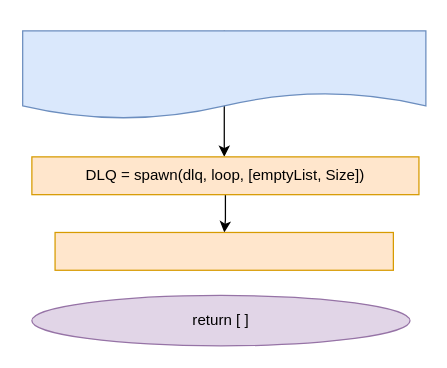
The diagram is 447 pixels wide and 368 high, and some of its shapes have lost their labels. The shapes that lost their labels are listed below. From the top down, each one's box as (x1, y1, x2, y2) in pixels, then its label:
(21, 30, 426, 119): Start von initDLQ(Size, Datei) Rückgabewert: binary Heap mit Elementen aus list
(54, 231, 393, 270): register(DlqPID, DLQ)
